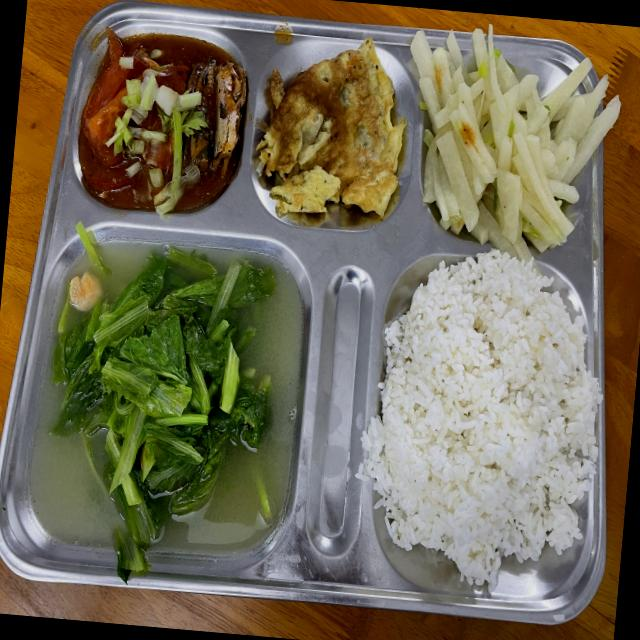ca kho: (78, 28, 247, 213)
canh cai: (50, 245, 274, 572)
com: (358, 250, 600, 586)
trung chien: (256, 39, 406, 215)
